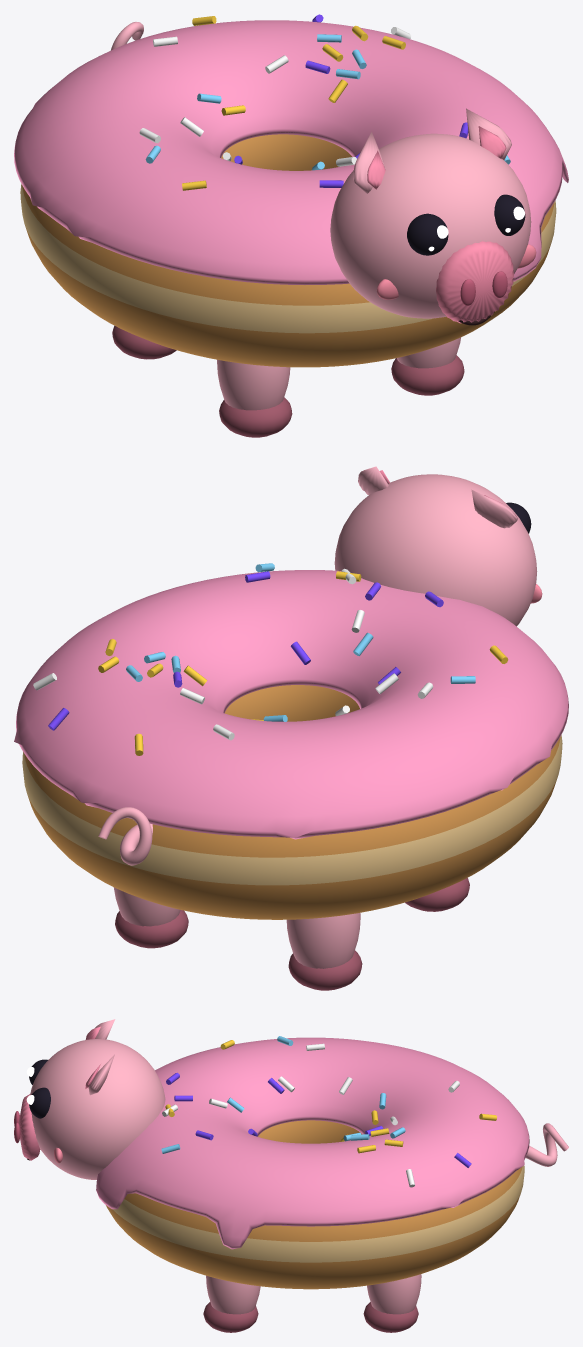
The model's file is pilot_gris_smultring.glb.
The picture shows the model from 3 angles, top to bottom: view 1: azimuth 30°, elevation 25°; view 2: azimuth 150°, elevation 25°; view 3: azimuth 270°, elevation 25°; orthographic projection. The views are drawn at different scales.
Parts seen in each view (by area): view 1: kropp, hode, bein_vf, bein_hf, bein_vb; view 2: kropp, hode, bein_vb, bein_hb, hale, bein_vf; view 3: kropp, hode, bein_hb, bein_hf, hale.
Part boxes in pixels (x1,y1,x2,y2): kropp: (14,14,568,367); hode: (330,108,536,325); bein_vf: (217,359,292,437); bein_hf: (391,337,464,395); bein_vb: (112,325,176,359); kropp: (14,563,568,919); hode: (334,466,542,626); bein_vb: (286,913,362,990); bein_hb: (113,887,188,948); hale: (98,807,152,865); bein_vf: (405,878,469,911); kropp: (96,1036,529,1289); hode: (14,1019,165,1179); bein_hb: (363,1274,421,1332); bein_hf: (203,1275,260,1332); hale: (525,1123,568,1166).
Size of the model in its own units: 1.46 by 1.04 by 2.01.
